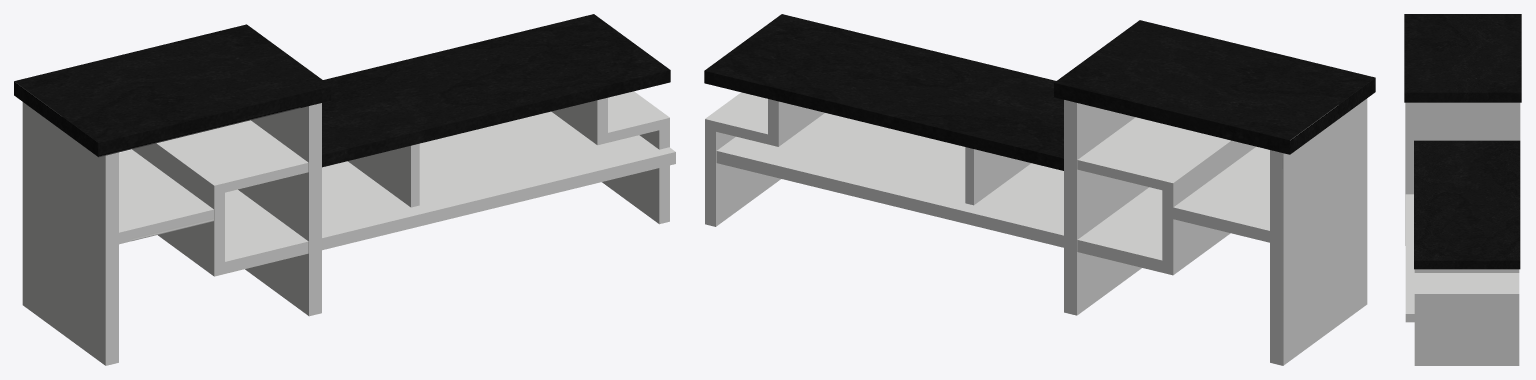
The model's file is maintab2.glb.
3 views of the same model, side by side, from view 1: azimuth 30°, elevation 25°; view 2: azimuth 150°, elevation 25°; view 3: azimuth 270°, elevation 25° (orthographic). The views are drawn at different scales.
Visible parts, largest first — view 1: Marble TV Stand; view 2: Marble TV Stand; view 3: Marble TV Stand.
Part boxes in pixels (<box>): Marble TV Stand: <box>14,14,675,365</box>; Marble TV Stand: <box>704,14,1375,365</box>; Marble TV Stand: <box>1404,14,1521,365</box>.
Bounding box in the file's own units: 3.66 × 1.36 × 0.9269.
1 material, 1 textured.
